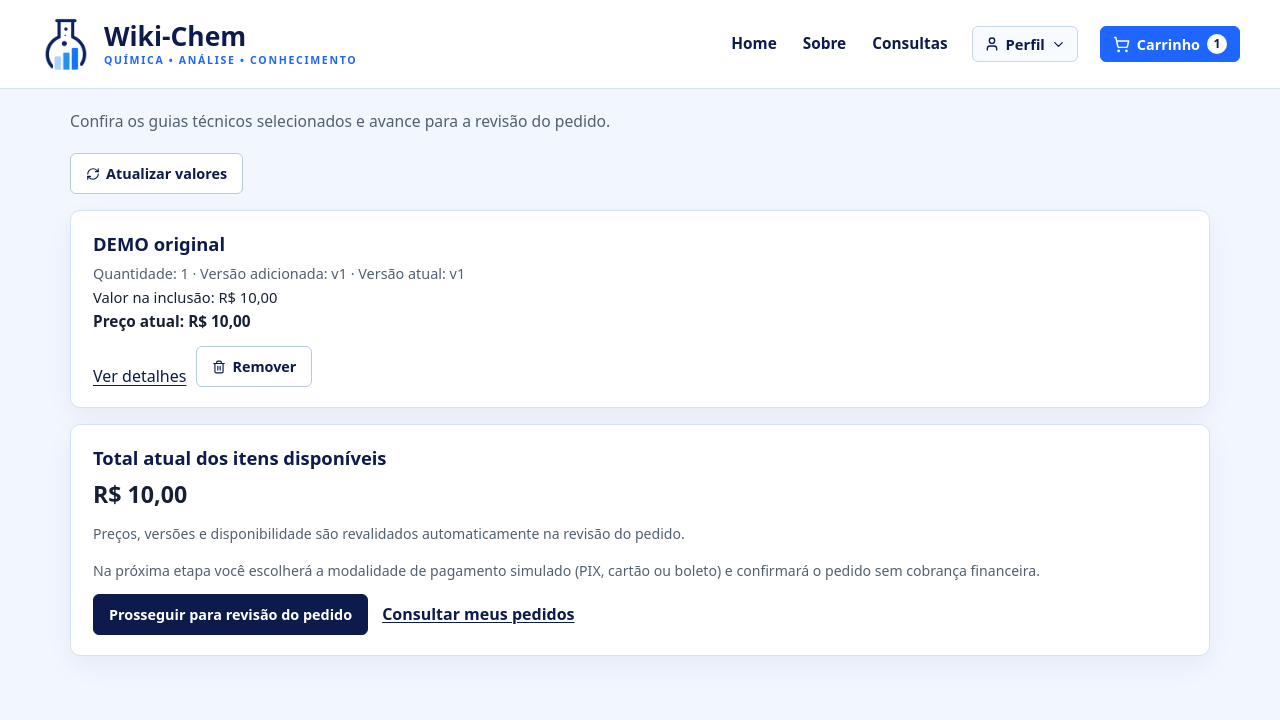
Test: checkout integrado aos contratos HTTP, simulação de pagamento e compras consecutivas › cria revisão pelo carrinho, exige seleção de modalidade e aceite explícito, não pede dados sensíveis e oculta prazo após conclusão
(page scrolled)
What coordinates should you click on to do the following:
click the button "Prosseguir para revisão do pedido"
I would click on:
 (231, 614)
Its box is top-left (93, 594), bottom-right (368, 635).
(page scrolled)
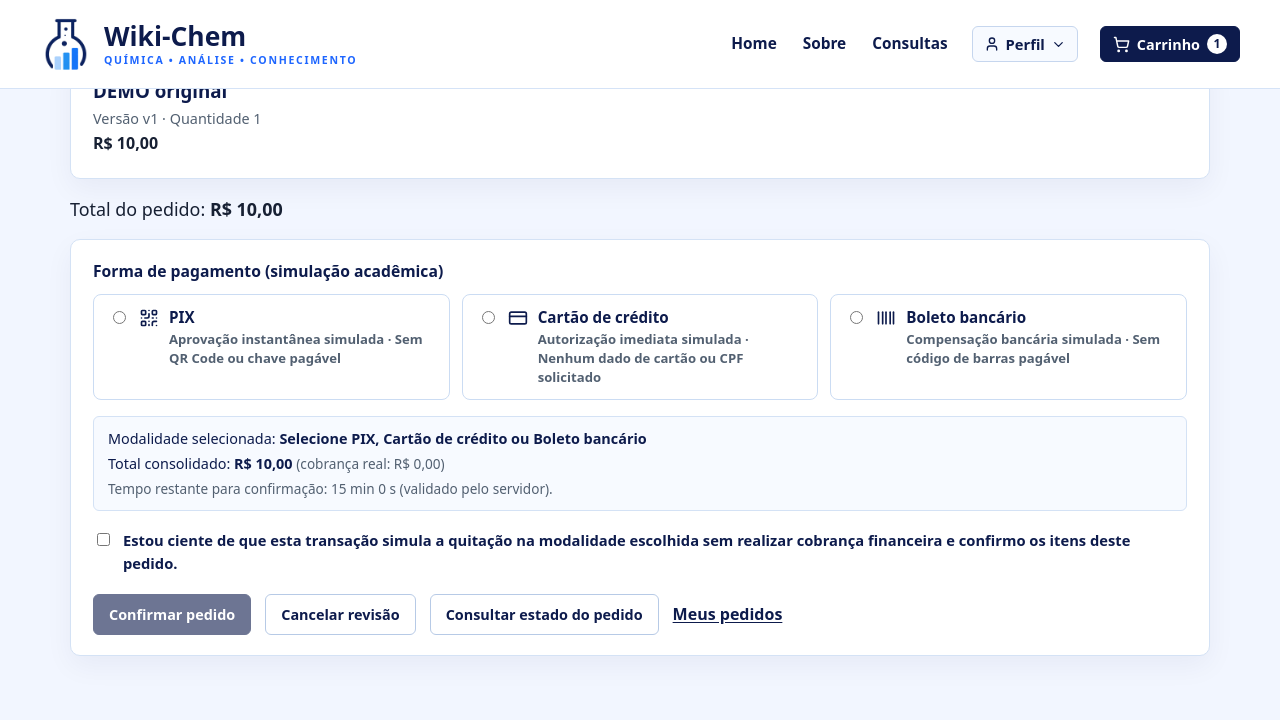
Expected: the button "Confirmar pedido" is disabled, top-left (93, 594), bottom-right (251, 635)
# Aceite marcado sem forma de pagamento continua desabilitado
What coordinates should you click on to do the following:
click the checkbox
I would click on:
 (104, 539)
Its box is top-left (97, 533), bottom-right (110, 546).
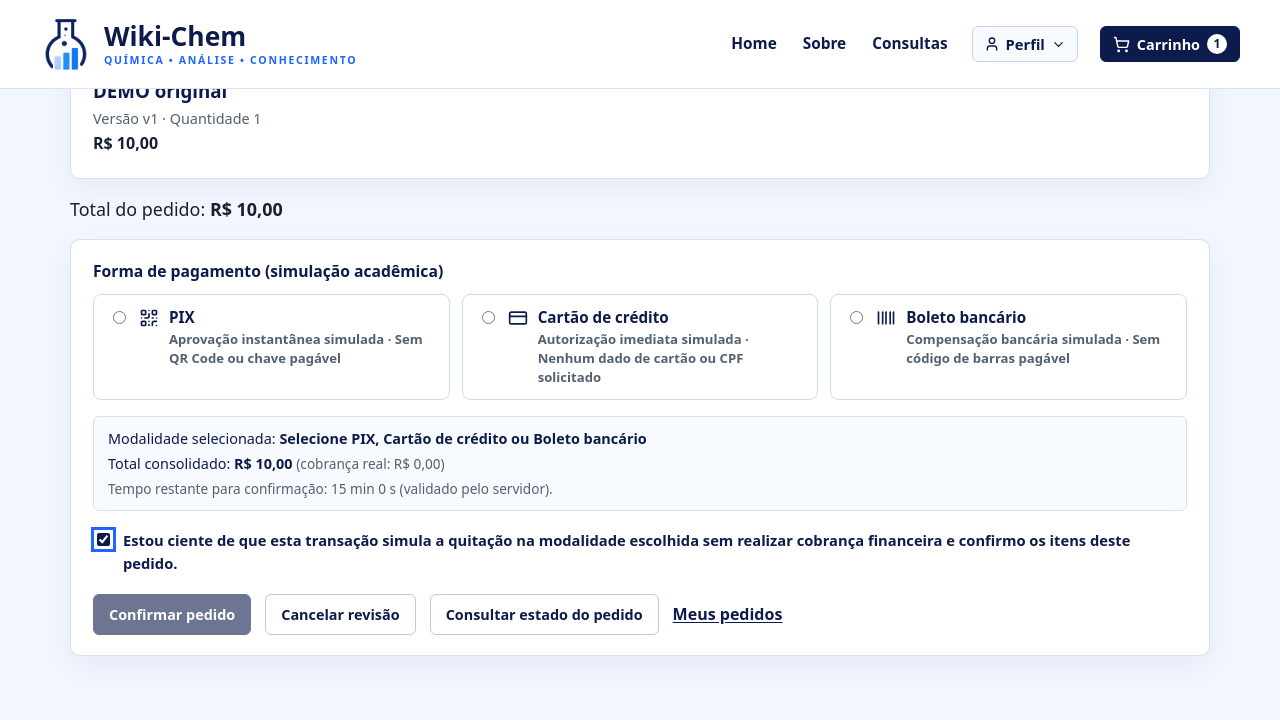
Expected: the button "Confirmar pedido" is disabled, top-left (93, 594), bottom-right (251, 635)
What coordinates should you click on to do the following:
click the radio button labelled "PIX"
I would click on:
 (120, 317)
Its box is top-left (113, 311), bottom-right (126, 324).
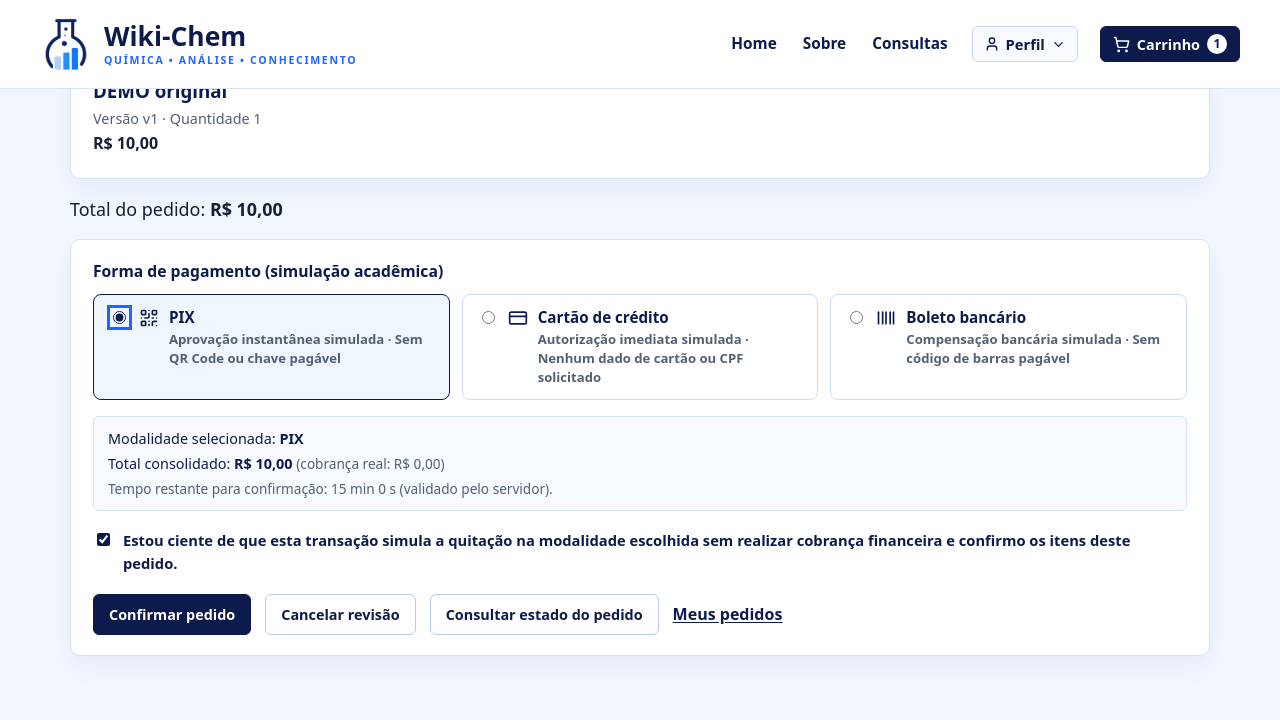
Expected: the button "Confirmar pedido" is enabled
What coordinates should you click on to do the following:
click the button "Confirmar pedido"
I would click on:
 (172, 614)
Its box is top-left (93, 594), bottom-right (251, 635).
(page scrolled)
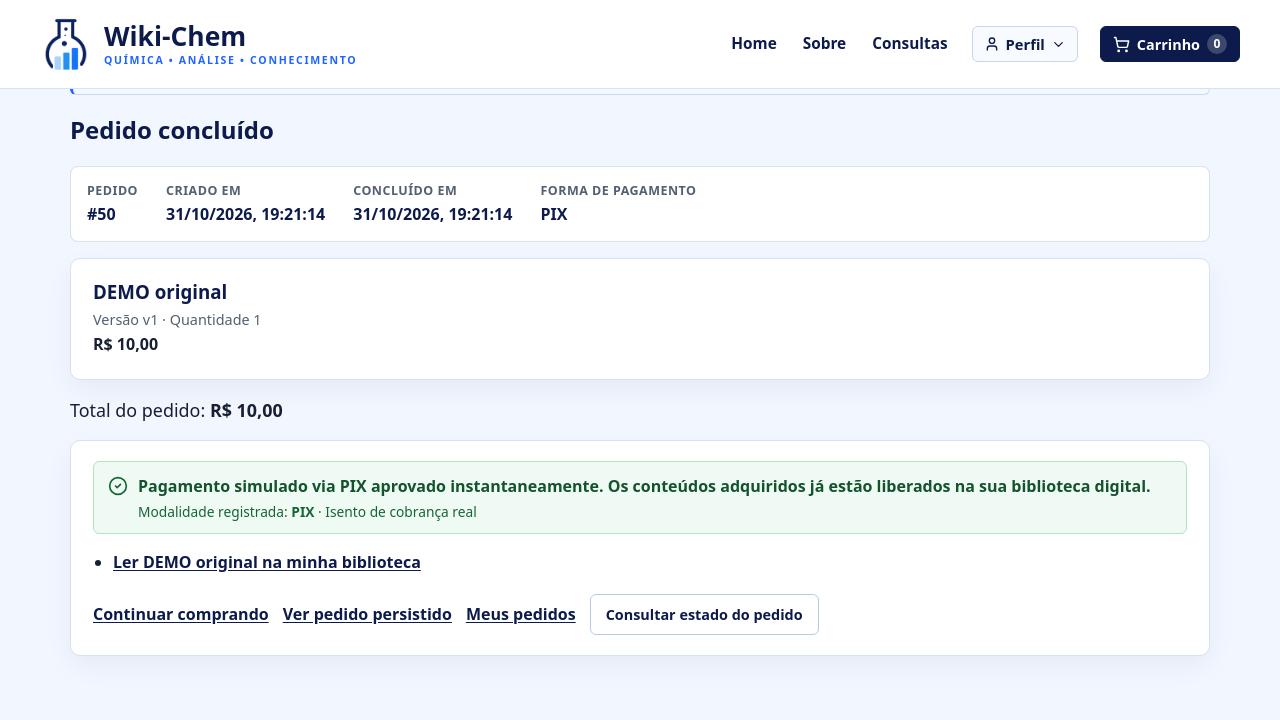
Expected: the heading "Pedido concluído" is shown, top-left (70, 113), bottom-right (274, 146)
Expected: the text "Concluído em" is shown, top-left (353, 182), bottom-right (457, 199)
Expected: the text "Pagamento simulado via PIX aprovado instantaneamente" is shown, top-left (138, 475), bottom-right (1151, 497)
